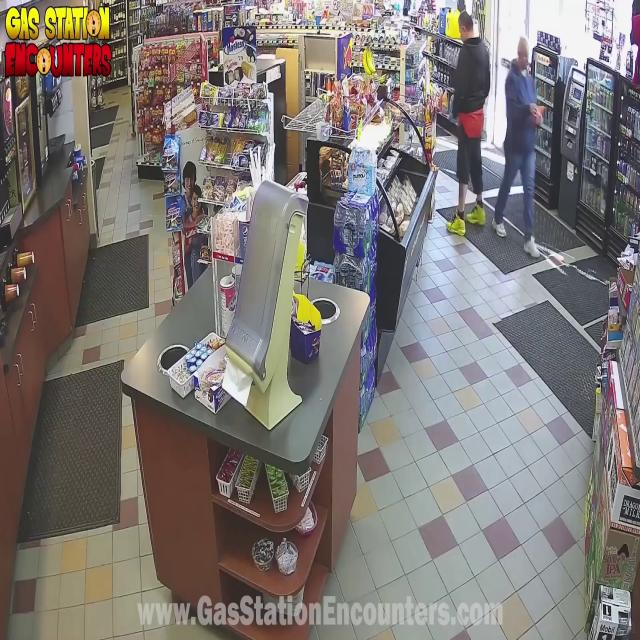Product: (527, 94, 547, 134)
normal: (438, 7, 488, 264)
shoplifting: (488, 14, 557, 259)
